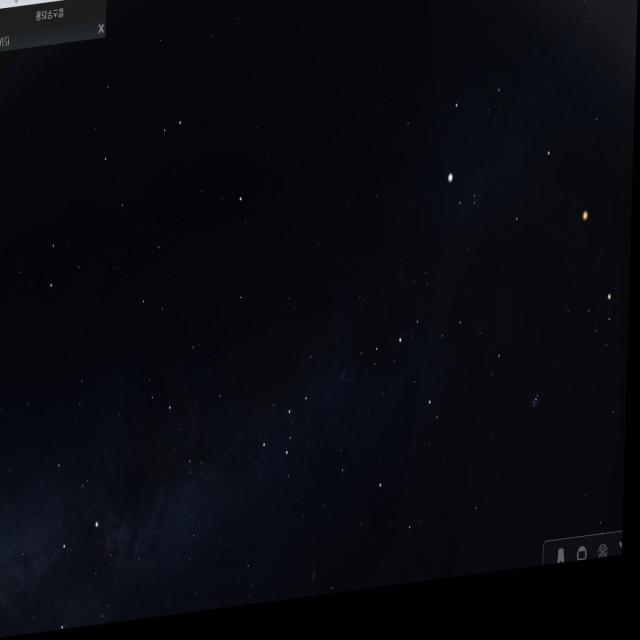cassiopeia: (257, 359, 331, 493)
pleiades: (528, 380, 550, 433)
